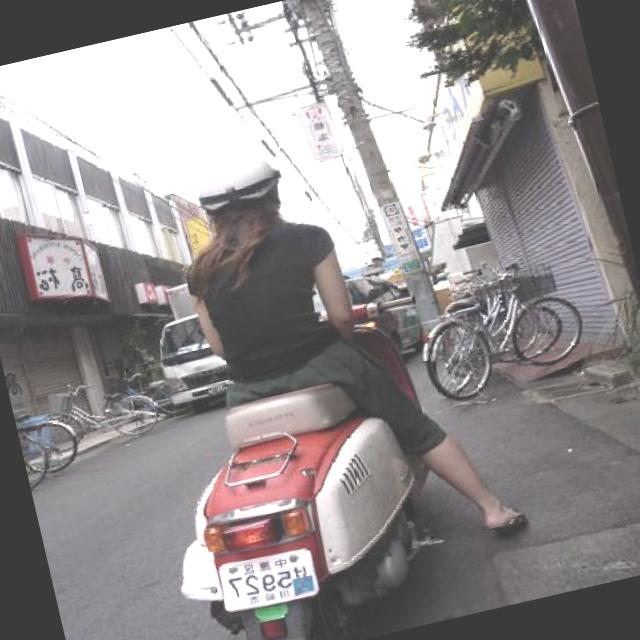Person: (160, 107, 524, 584)
